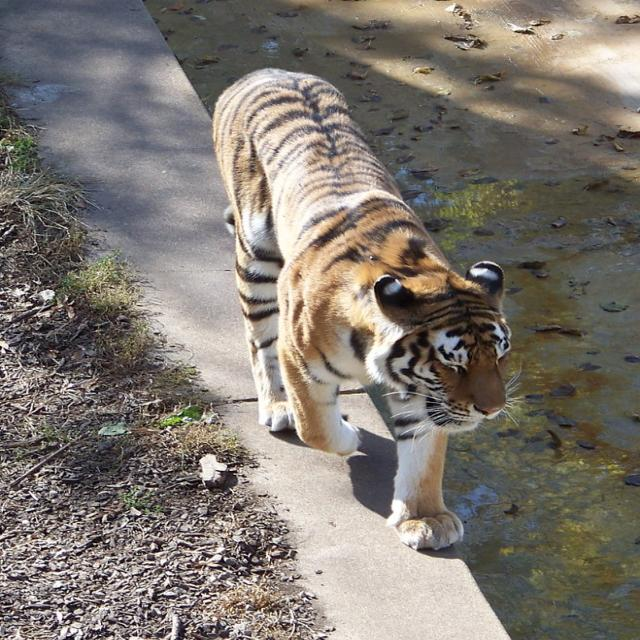Tiger: (206, 61, 519, 553)
